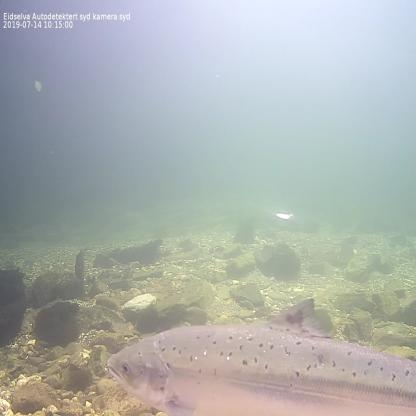salmon: (105, 296, 416, 416)
